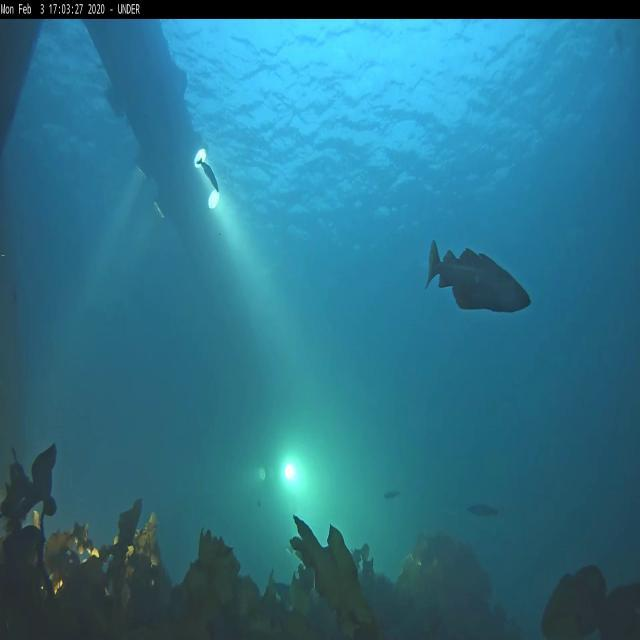fish: (424, 238, 532, 316), (196, 158, 220, 193), (466, 502, 499, 521), (384, 488, 402, 502)
